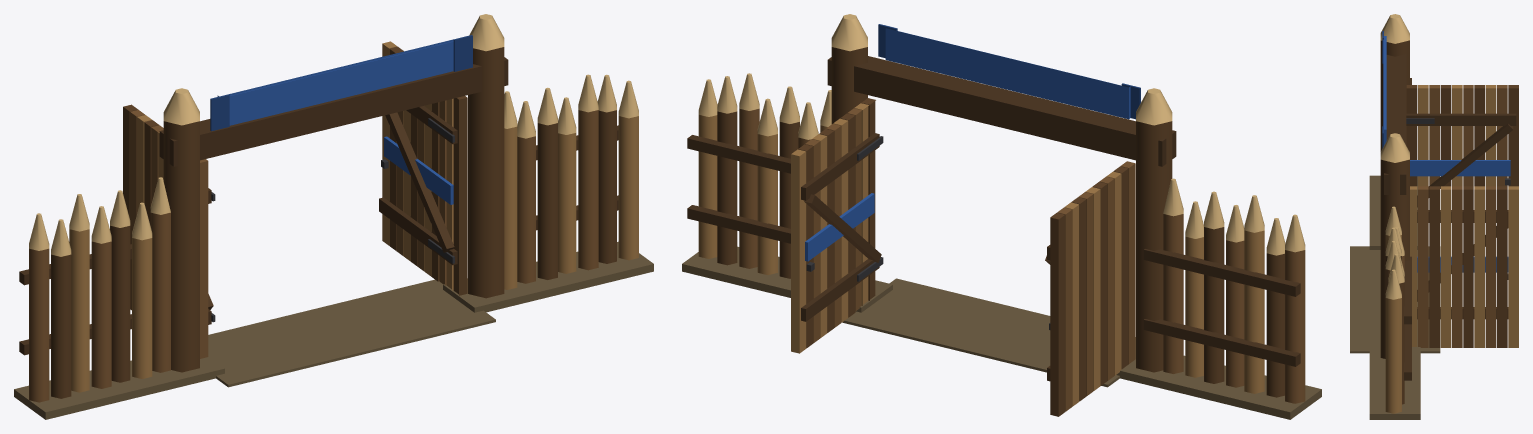
Rendered from palisade-gate-open.glb.
The picture shows the model from 3 angles, left to right: view 1: azimuth 30°, elevation 25°; view 2: azimuth 150°, elevation 25°; view 3: azimuth 270°, elevation 25°; orthographic projection. The views are drawn at different scales.
Visible parts, largest first — view 1: palisade-gate-open; view 2: palisade-gate-open; view 3: palisade-gate-open.
Part boxes in pixels (left/top/right/bottom): palisade-gate-open: left=14, top=14, right=653, bottom=419; palisade-gate-open: left=682, top=14, right=1321, bottom=419; palisade-gate-open: left=1350, top=14, right=1518, bottom=419.
Size of the model in its own units: 10 by 4.4 by 2.99.
1 material, 1 textured.
